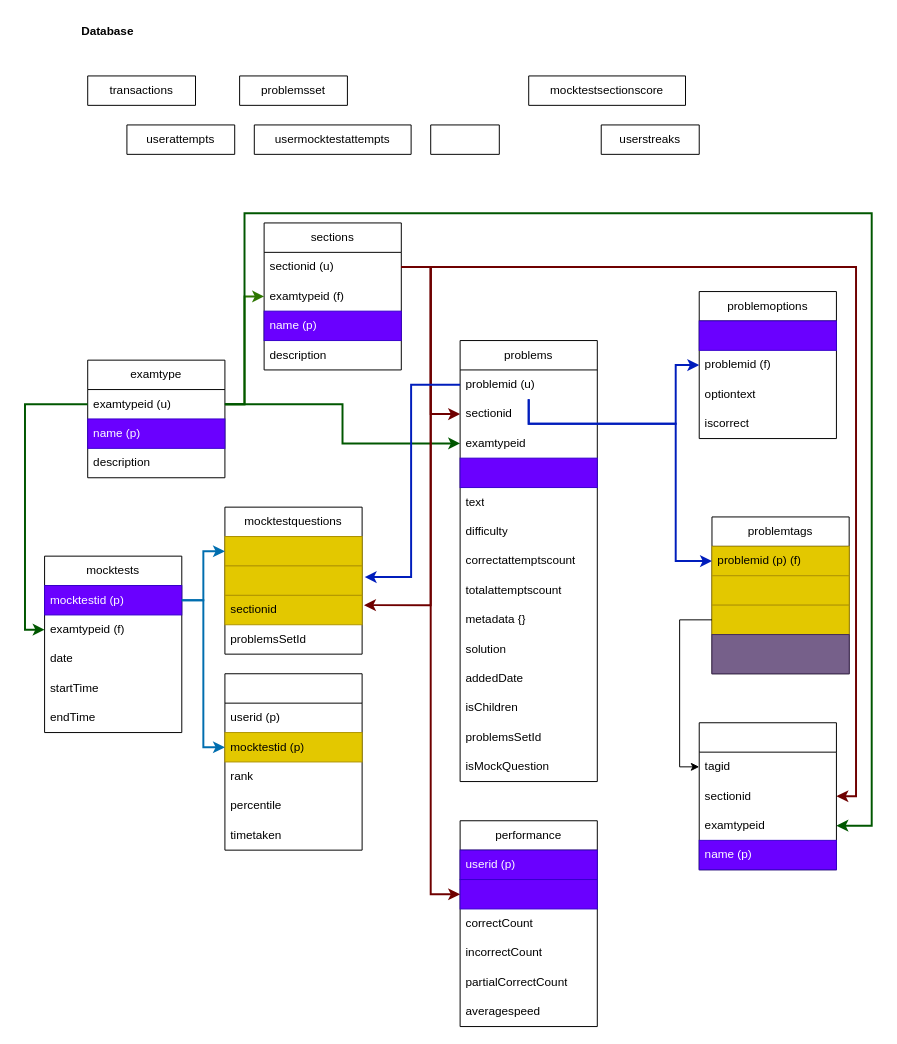
This 897x1044 diagram has some shape labels left out. The box of each missing label's shape, as (x1, y1, x2, y2) in pixels:
mocktestid: (224, 536, 362, 566)
mocktestrankings: (224, 673, 362, 850)
optionid (p): (698, 320, 836, 350)
problemid: (224, 565, 362, 595)
problemsetid (p): (711, 575, 849, 605)
sectionid (p): (459, 879, 597, 909)
tagid (p): (711, 604, 849, 635)
tags: (698, 722, 836, 870)
title (p): (459, 457, 597, 488)
users: (430, 124, 499, 154)
{ Bridge between problems and tags }: (711, 634, 849, 674)
